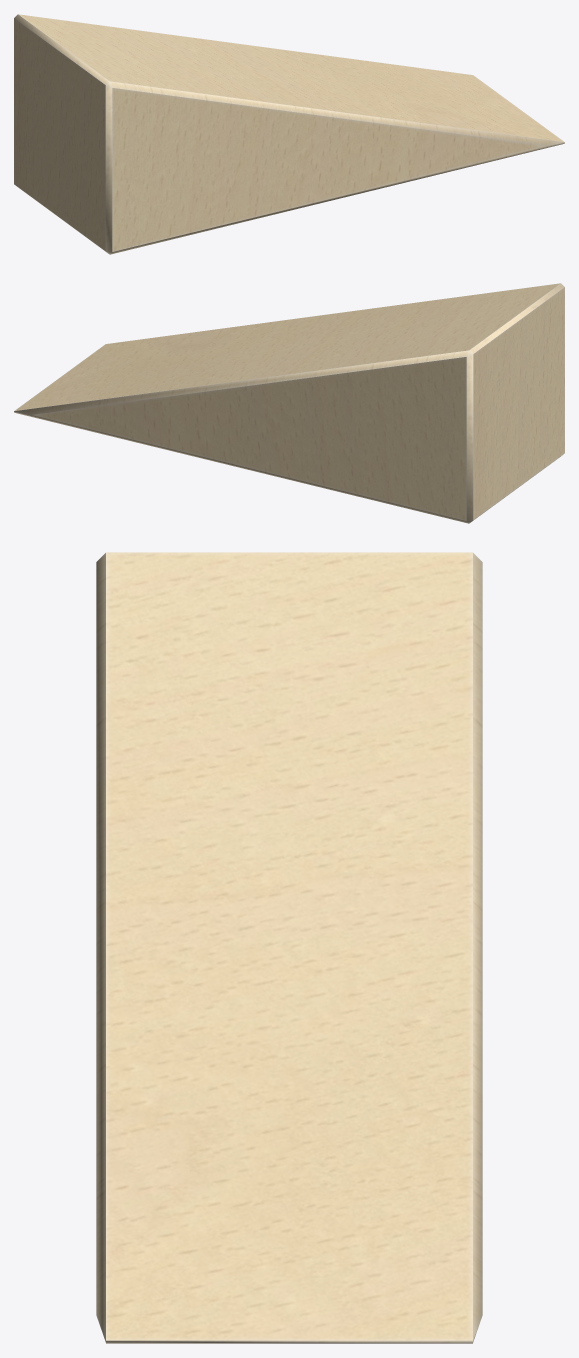
Rendered from ramp.fbx.
3 renders of one model, top to bottom at view 1: azimuth 30°, elevation 25°; view 2: azimuth 150°, elevation 25°; view 3: azimuth 270°, elevation 25°, orthographic. The views are drawn at different scales.
Parts seen in each view (by area): view 1: Cube; view 2: Cube; view 3: Cube.
Boxes of the visible parts, x1,y1,x2,y2 form: Cube: (14,14,564,254); Cube: (14,283,564,523); Cube: (96,552,482,1343).
Size of the model in its own units: 550 by 198 by 200.
Materials: 1 (1 with a texture image).
